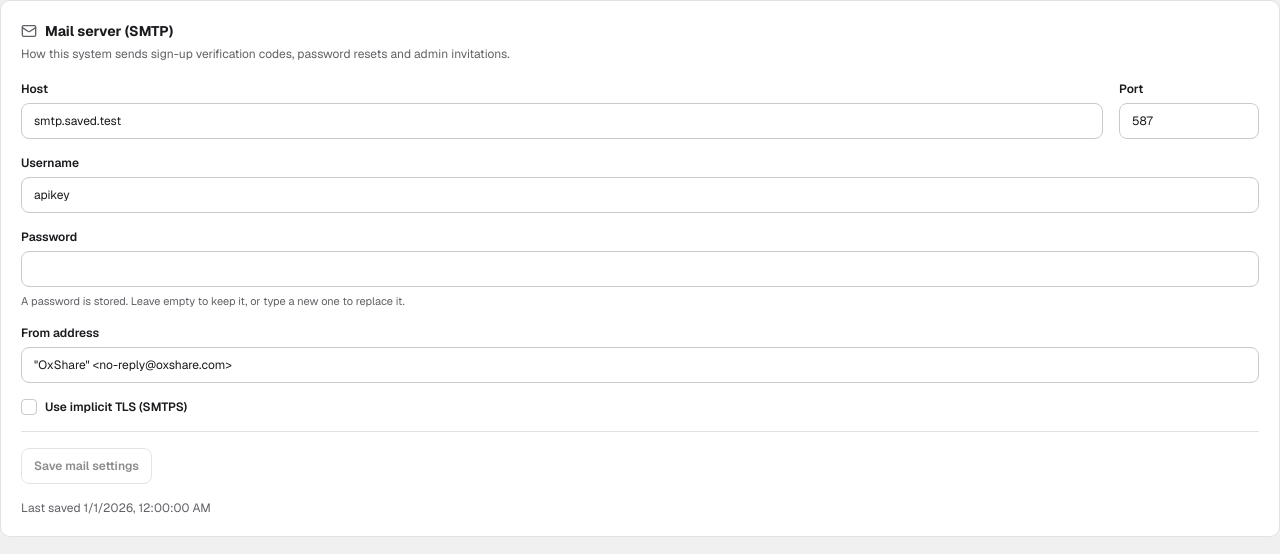
the save button › enables once a field is edited
Step 1. Type ".uk" into the field labelled "Host" → (562, 120), box [21,102,1103,138]
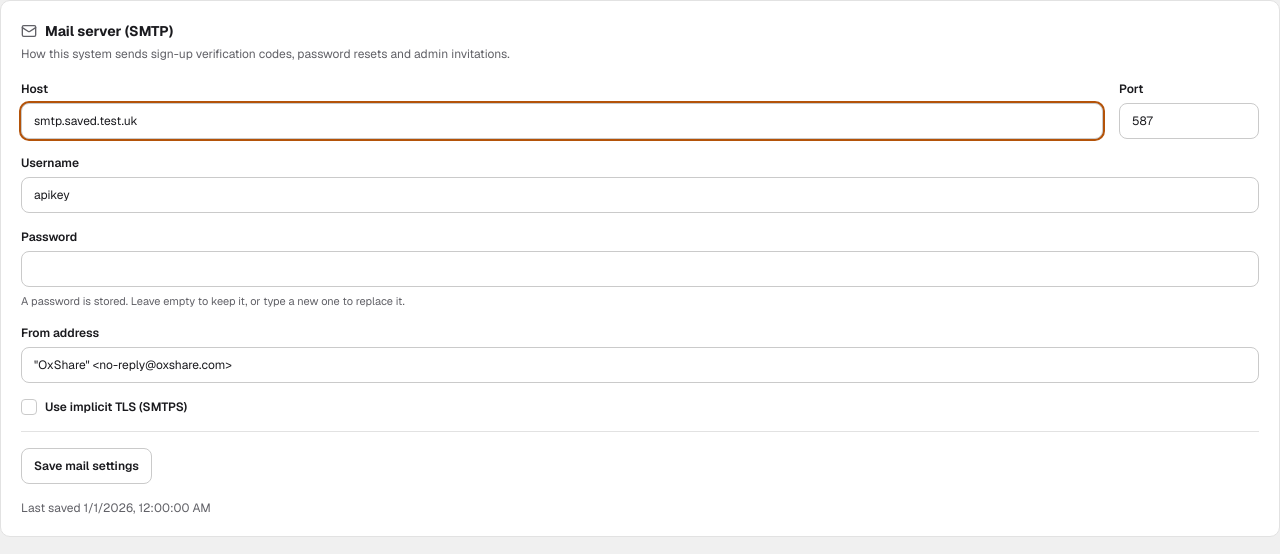
Expected: the button "Save mail settings" is enabled, [21,448,152,484]
